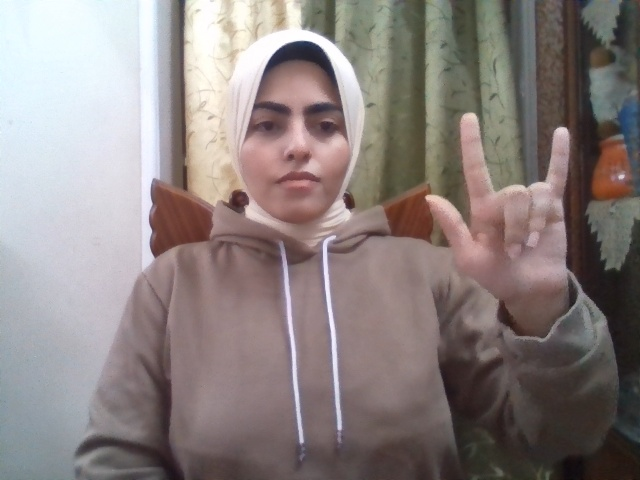iloveyou: (426, 113, 571, 310)
